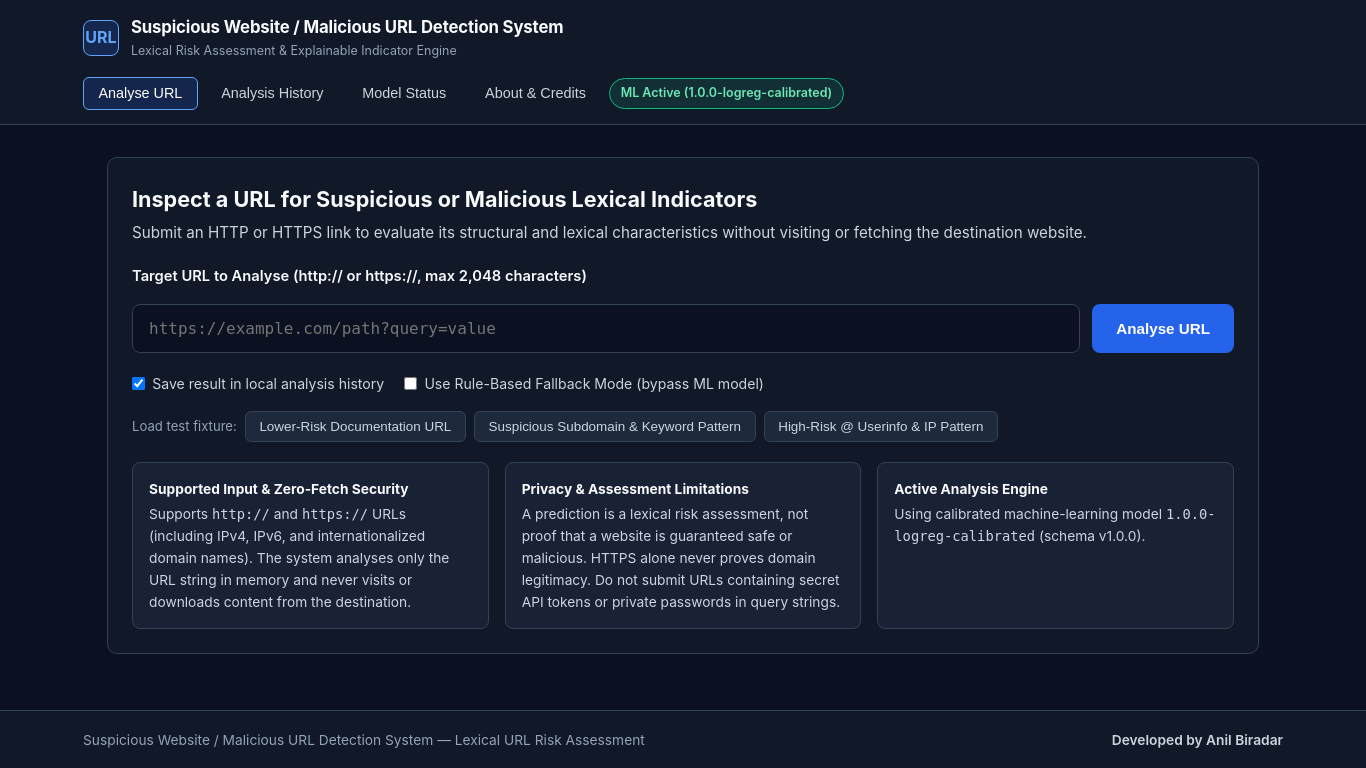
Test: Frontend Application Suite (TC-30 to TC-34 & Branding Verification) › TC-30 & TC-33: Main analysis flow works and results are displayed accessibly with developer credit
Expected: the text with test id "developer-footer-credit" reads "Developed by Anil Biradar", [1112,732,1283,748]
In the field labelled "Target URL to Analyse": point(606, 328) [132,304,1080,353], type "http://trusted.com@192.0.2.42/login/verify"
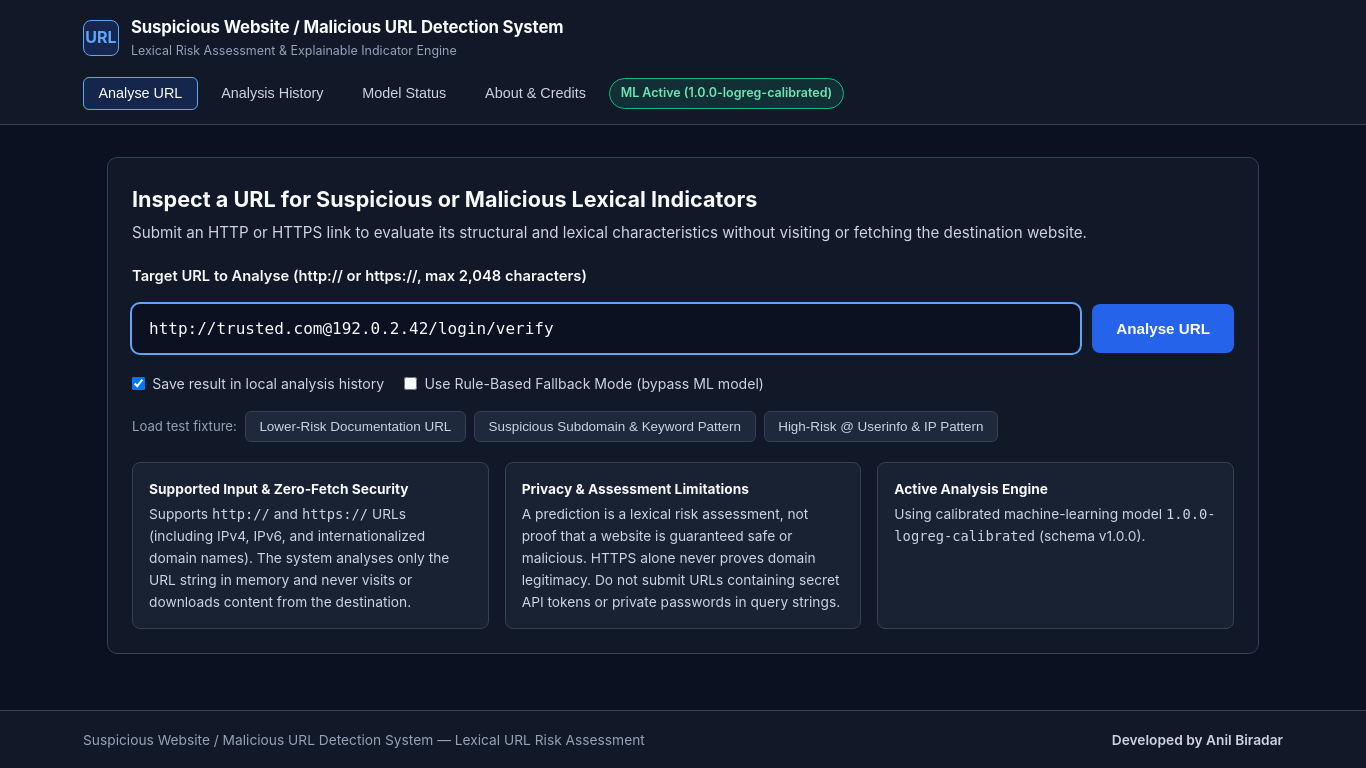
Click the button with test id "analyze-submit-btn": point(1163, 328) [1092,304,1234,353]
(page scrolled)
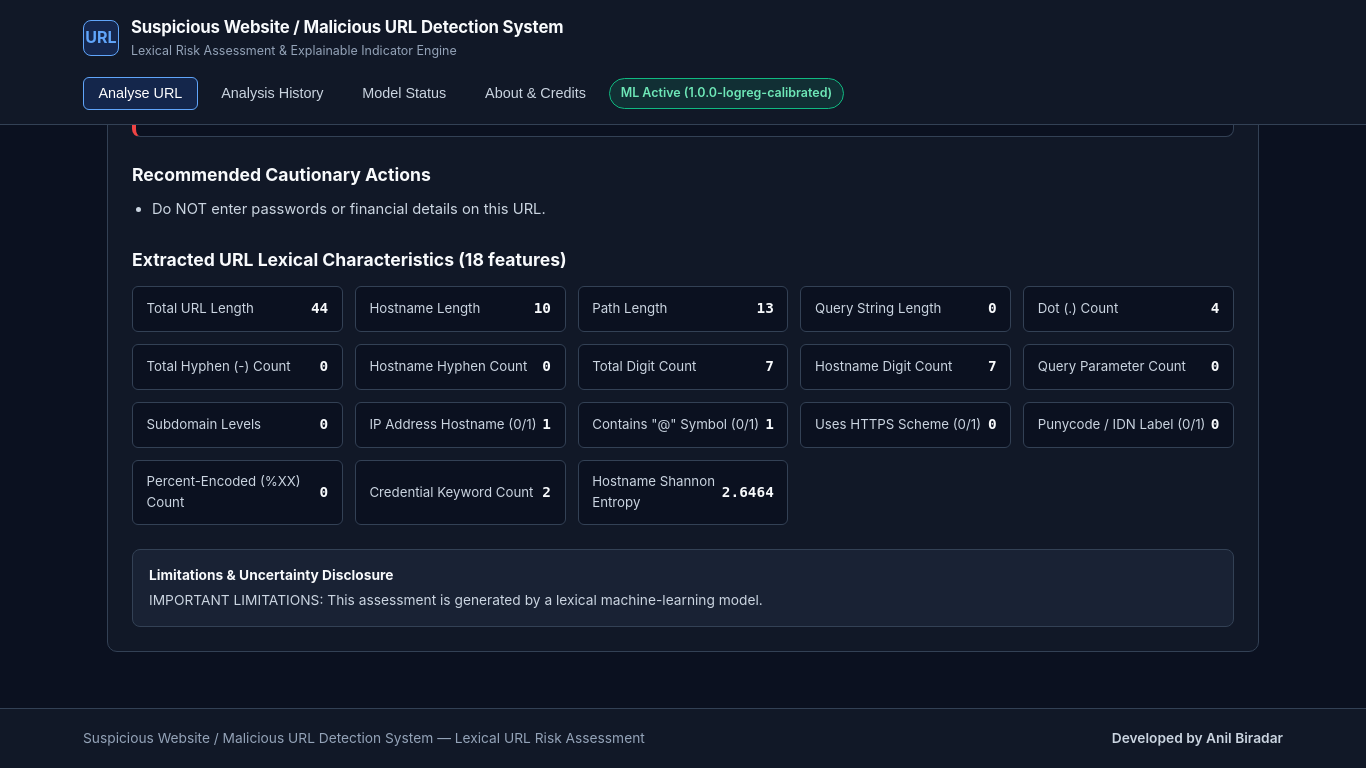
Result: the element with test id "limitations-notice" shows "IMPORTANT LIMITATIONS" at [149,592,763,608]
